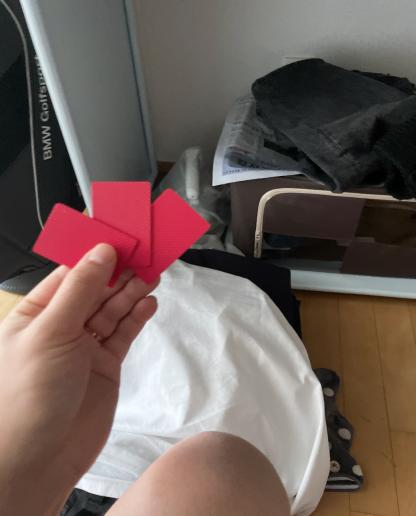ThreeHwatoo: (22, 175, 213, 299)
